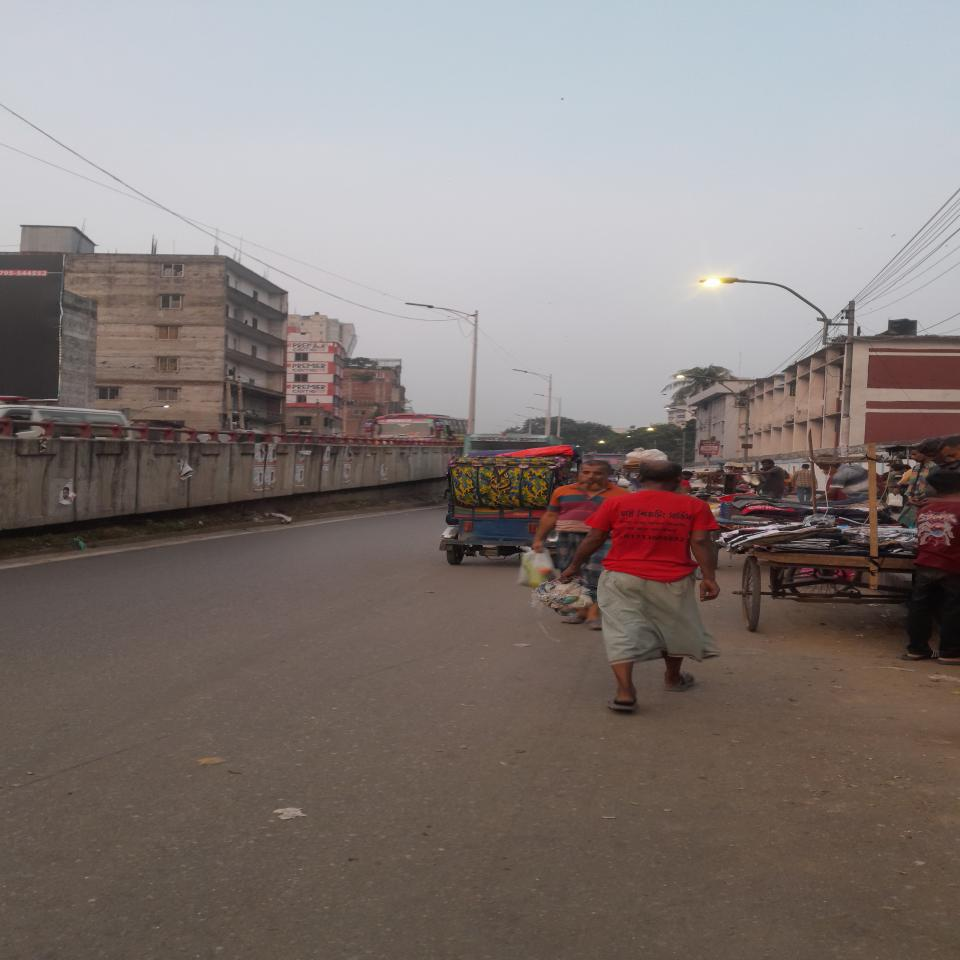person: (561, 462, 720, 712), (532, 460, 628, 630)
